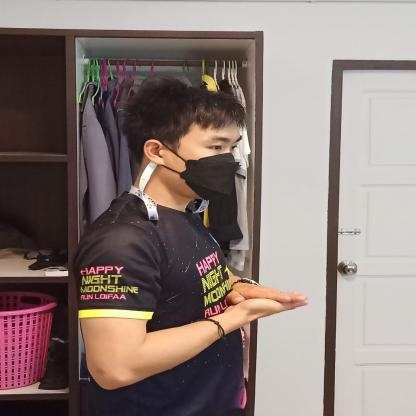Love: (204, 265, 326, 339)
